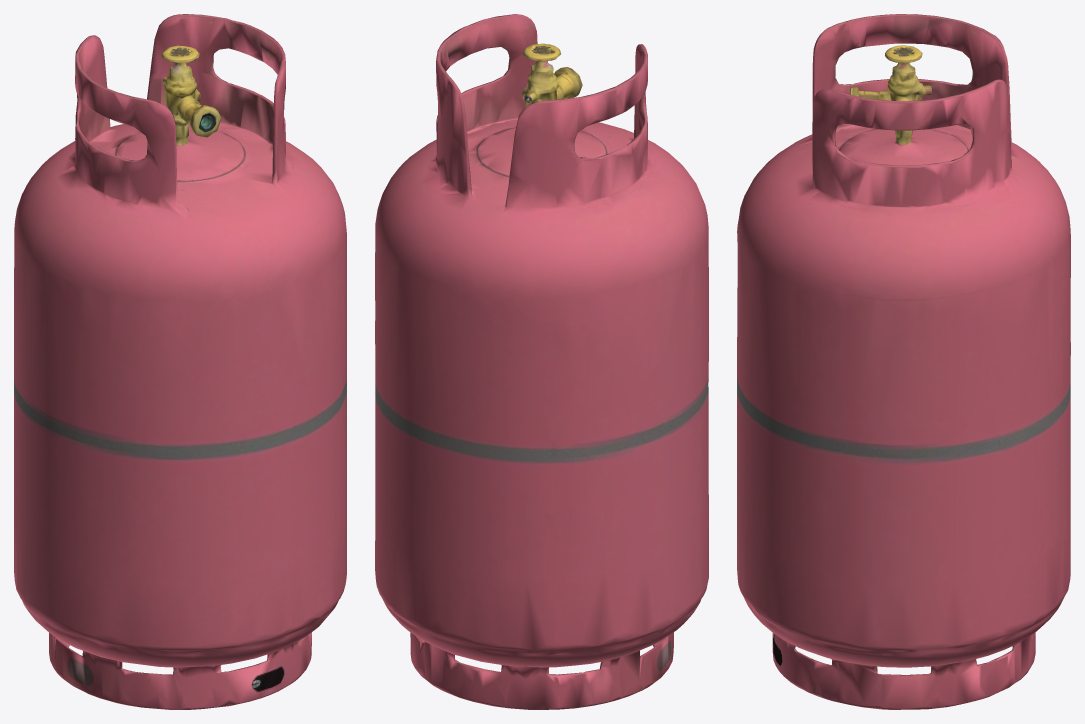
3 renders of one model, left to right at view 1: azimuth 30°, elevation 25°; view 2: azimuth 150°, elevation 25°; view 3: azimuth 270°, elevation 25°, orthographic.
Parts seen in each view (by area): view 1: Mesh_0; view 2: Mesh_0; view 3: Mesh_0.
Boxes of the visible parts, left/top/right/bottom form: Mesh_0: left=14, top=14, right=346, bottom=709; Mesh_0: left=375, top=14, right=708, bottom=709; Mesh_0: left=737, top=14, right=1070, bottom=709.
Bounding box in the file's own units: 0.9516 × 1.9 × 0.9515.
1 material, 1 textured.
